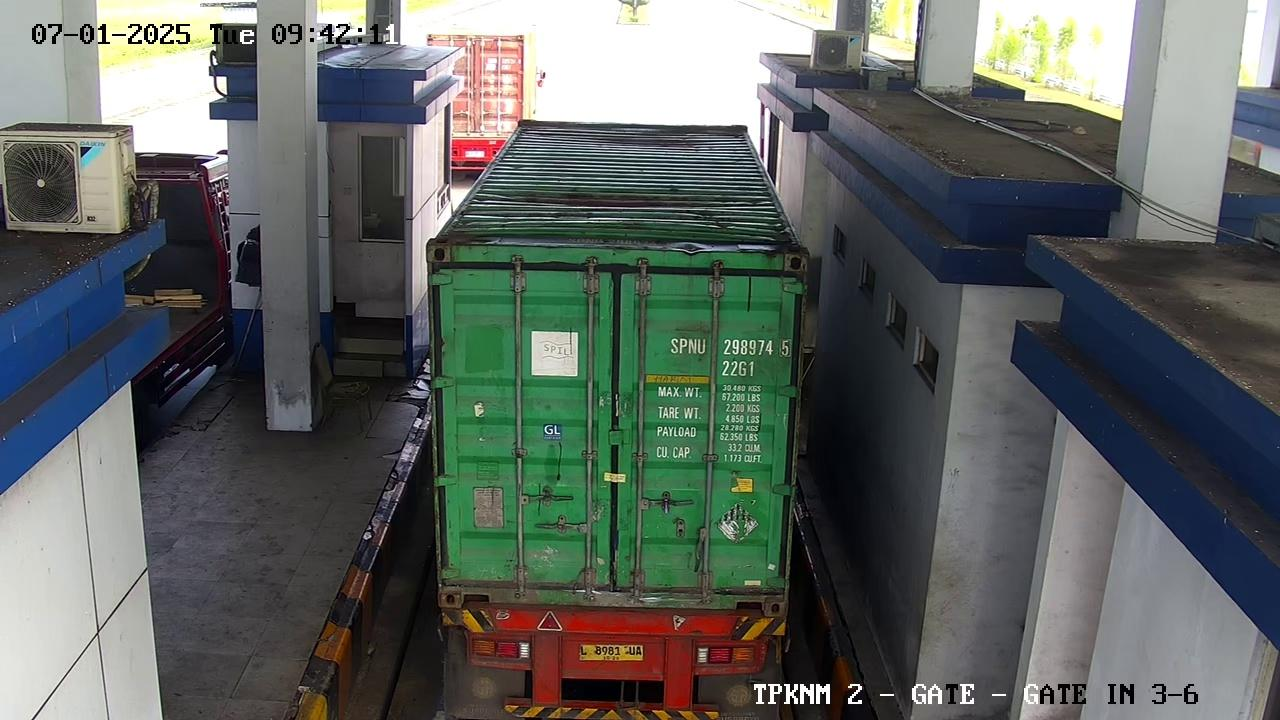Container_ID: (656, 332, 799, 363)
plate_number: (557, 636, 654, 673)
